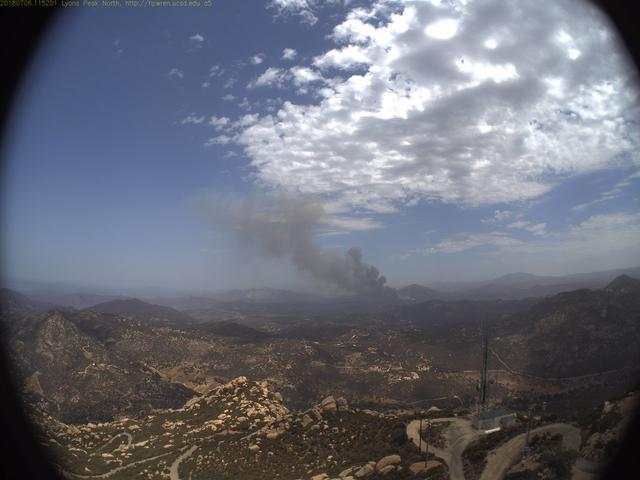smoke: (200, 179, 422, 314)
